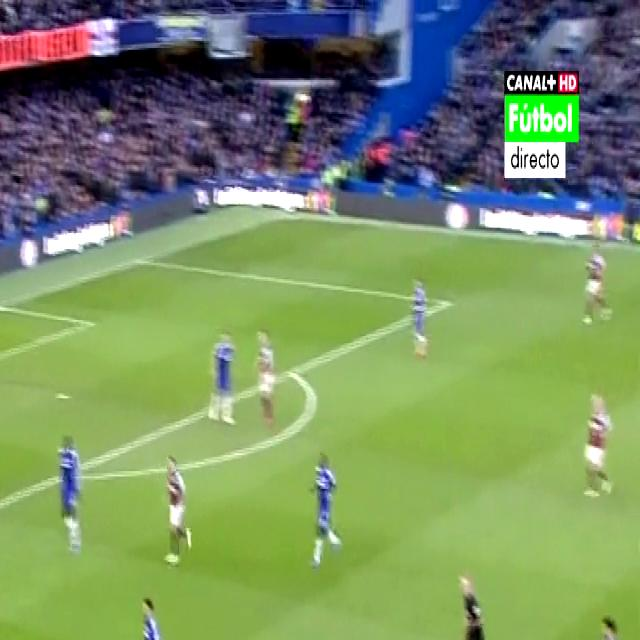referee: (451, 558, 508, 640)
soccer-player: (304, 442, 351, 581), (577, 379, 625, 510), (49, 417, 92, 559), (158, 437, 202, 568), (573, 232, 616, 337), (205, 318, 241, 438), (401, 262, 441, 369), (251, 318, 285, 440), (119, 590, 181, 640), (583, 602, 639, 640)
